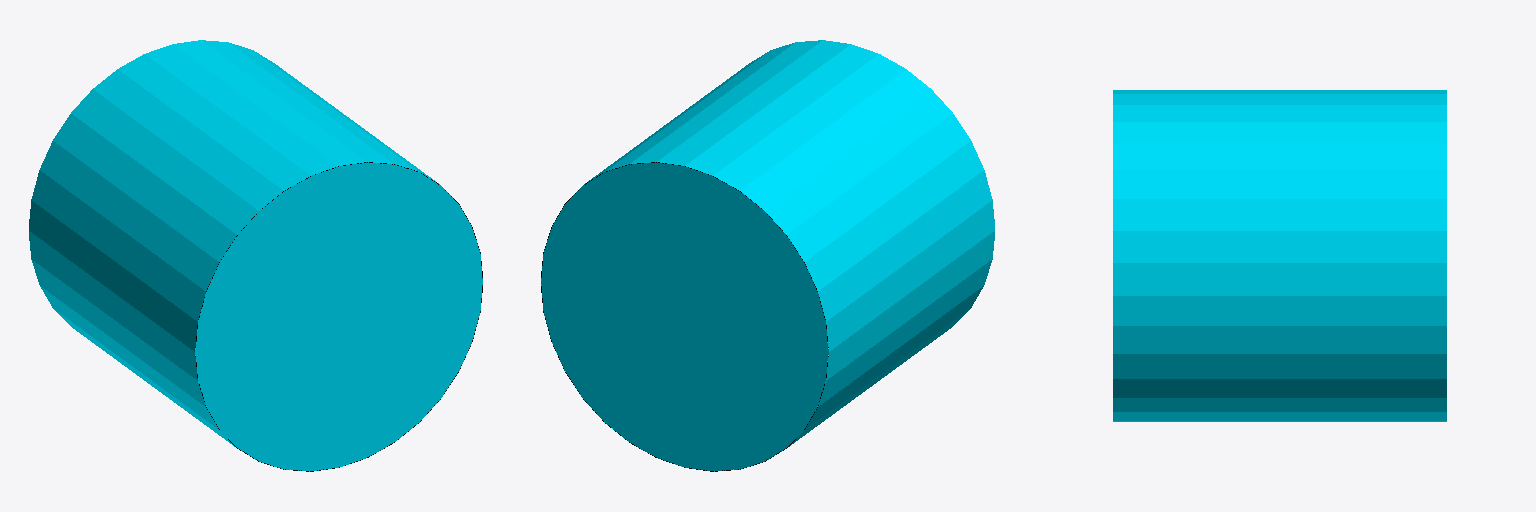
3 views of the same model, side by side, from view 1: azimuth 30°, elevation 25°; view 2: azimuth 150°, elevation 25°; view 3: azimuth 270°, elevation 25° (orthographic).
Parts seen in each view (by area): view 1: 円柱; view 2: 円柱; view 3: 円柱.
Boxes of the visible parts, x1=… form: 円柱: x1=29, y1=40, x2=482, y2=471; 円柱: x1=541, y1=40, x2=994, y2=471; 円柱: x1=1113, y1=90, x2=1446, y2=421.
Size of the model in its own units: 2 by 2 by 2.
Materials: 1 (1 with a texture image).